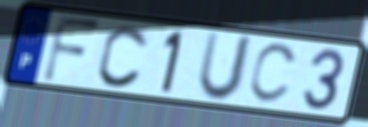1: (160, 29, 185, 95)
3: (301, 47, 346, 113)
C: (96, 23, 152, 90), (246, 42, 301, 107)
F: (40, 13, 104, 86)
U: (195, 29, 257, 105)
